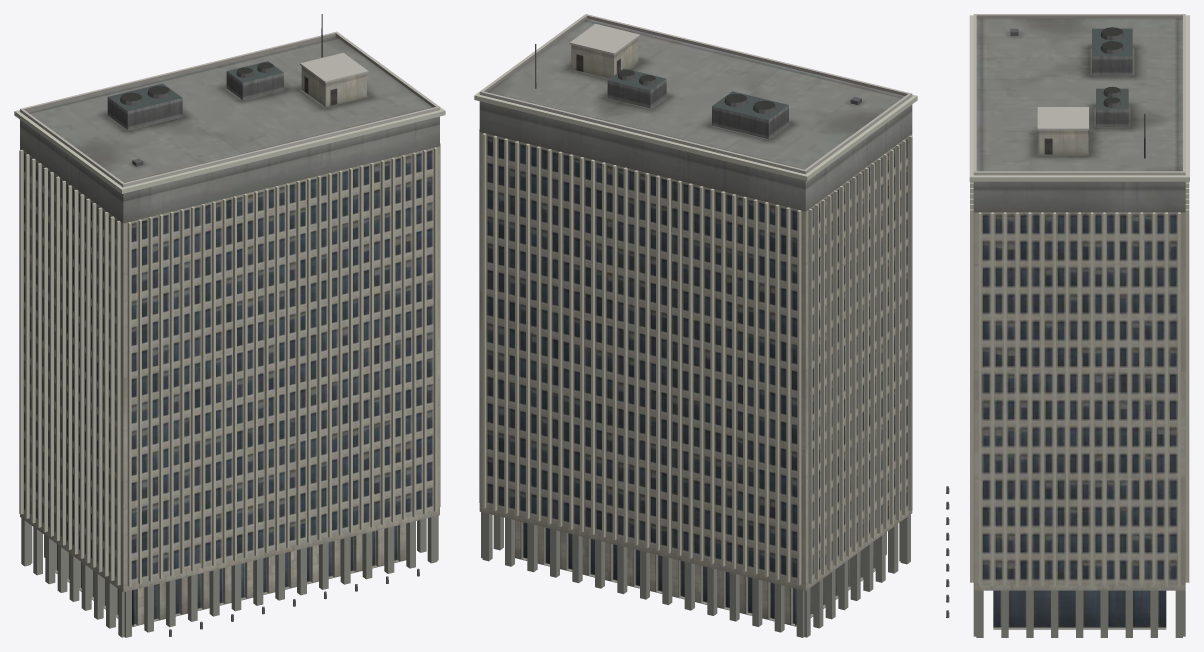
The model's file is seattle_officeslab_a.glb.
3 views of the same model, side by side, from view 1: azimuth 30°, elevation 25°; view 2: azimuth 150°, elevation 25°; view 3: azimuth 270°, elevation 25° (orthographic). The views are drawn at different scales.
Visible parts, largest first — view 1: seattle_officeslab_a; view 2: seattle_officeslab_a; view 3: seattle_officeslab_a.
Boxes of the visible parts, x1,y1,x2,y2 form: seattle_officeslab_a: (14,14,445,637); seattle_officeslab_a: (474,14,917,637); seattle_officeslab_a: (946,14,1189,637).
Size of the model in its own units: 47 by 68.6 by 29.89.
1 material, 1 textured.
